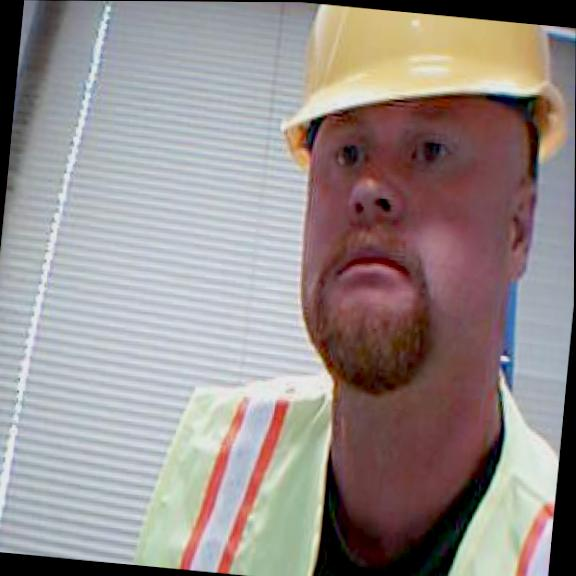safety_vest: (133, 340, 566, 576)
